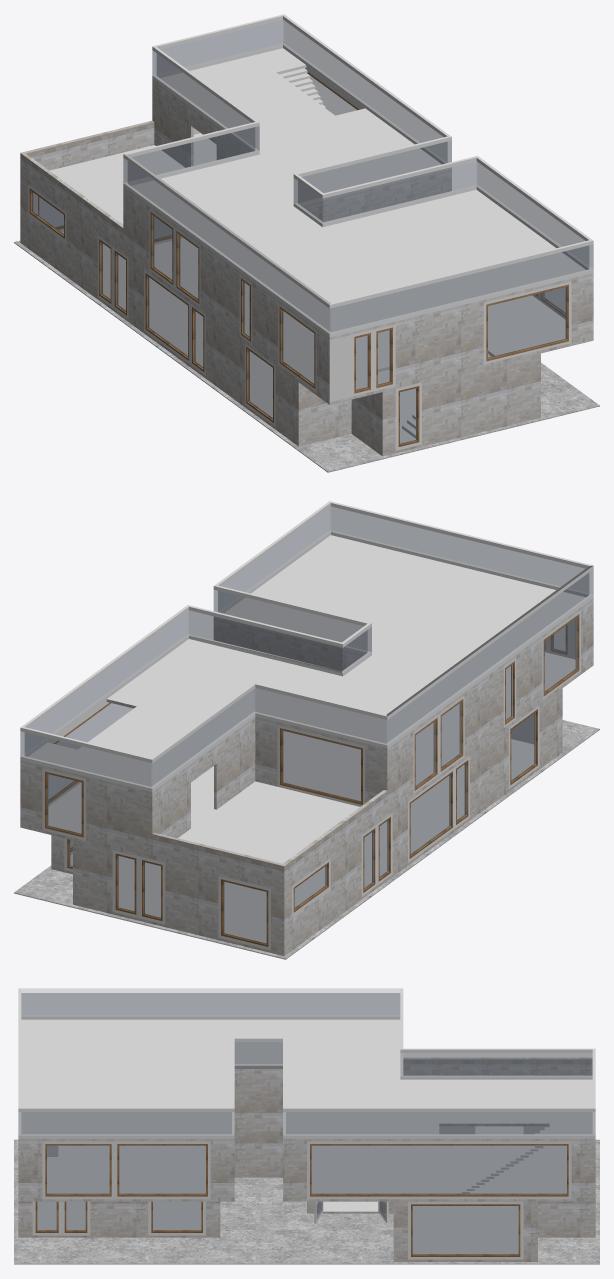
File: art galleryok.glb
The picture shows the model from 3 angles, top to bottom: view 1: azimuth 30°, elevation 25°; view 2: azimuth 150°, elevation 25°; view 3: azimuth 270°, elevation 25°; orthographic projection. The views are drawn at different scales.
Visible parts, largest first — view 1: not wall, windows, outer walls, window casing, inner window casing, ground; view 2: not wall, windows, outer walls, window casing, inner window casing, ground; view 3: not wall, windows, outer walls, ground, window casing, inner window casing.
Part boxes in pixels (left/top/right/bottom): not wall: left=33, top=14, right=593, bottom=443; windows: left=32, top=19, right=593, bottom=444; outer walls: left=20, top=79, right=593, bottom=456; window casing: left=28, top=68, right=571, bottom=450; inner window casing: left=29, top=72, right=568, bottom=446; ground: left=14, top=240, right=599, bottom=472; not wall: left=14, top=501, right=593, bottom=959; windows: left=20, top=506, right=593, bottom=943; outer walls: left=20, top=598, right=593, bottom=955; window casing: left=42, top=610, right=580, bottom=950; inner window casing: left=45, top=614, right=579, bottom=946; ground: left=14, top=699, right=599, bottom=959; not wall: left=14, top=988, right=599, bottom=1264; windows: left=18, top=993, right=595, bottom=1254; outer walls: left=18, top=1057, right=595, bottom=1261; ground: left=14, top=1123, right=599, bottom=1263; window casing: left=32, top=1141, right=571, bottom=1259; inner window casing: left=35, top=1144, right=568, bottom=1256.
Size of what is drawn, in the model's own units: 16 by 9.29 by 32.
7 materials, 3 textured.
